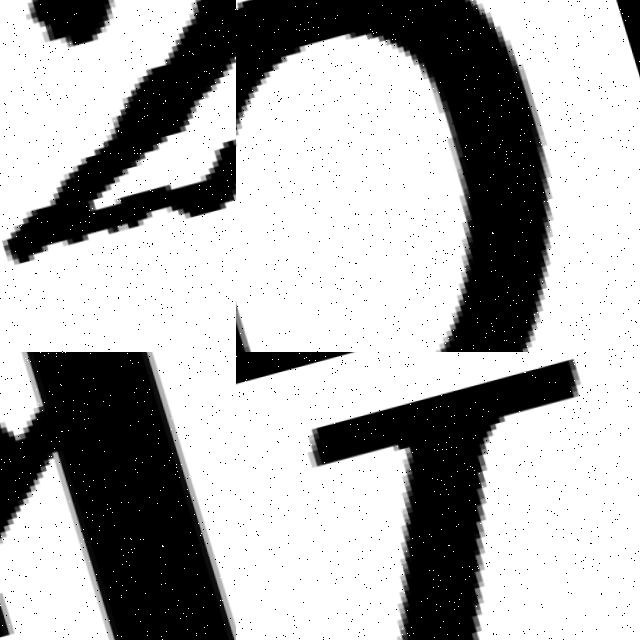1: (236, 352, 640, 640)
K: (0, 352, 236, 640)
O: (236, 0, 549, 352)
Z: (0, 0, 236, 284)
